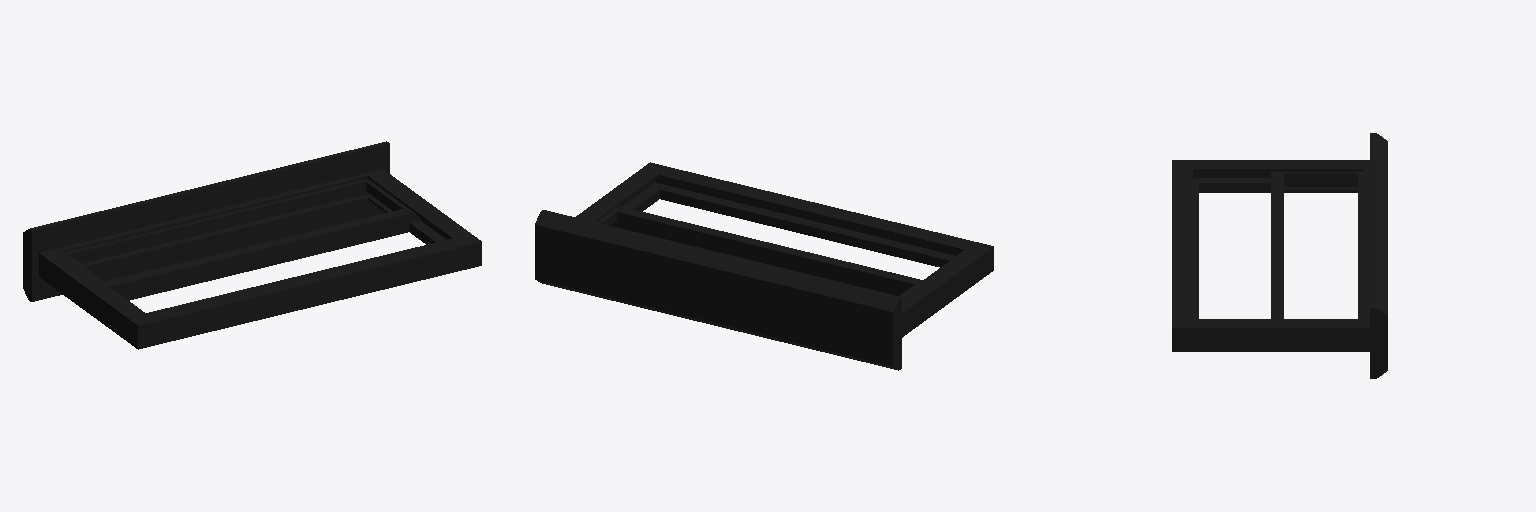
File: MeshWindowHung_48X24_0_GeomSubset_0.obj
3 renders of one model, left to right at view 1: azimuth 30°, elevation 25°; view 2: azimuth 150°, elevation 25°; view 3: azimuth 270°, elevation 25°, orthographic.
Parts seen in each view (by area): view 1: MeshWindowHung_48X24_0_GeomSubset_0; view 2: MeshWindowHung_48X24_0_GeomSubset_0; view 3: MeshWindowHung_48X24_0_GeomSubset_0.
Part boxes in pixels (x1,y1,x2,y2): MeshWindowHung_48X24_0_GeomSubset_0: (23,141,481,349); MeshWindowHung_48X24_0_GeomSubset_0: (535,162,993,370); MeshWindowHung_48X24_0_GeomSubset_0: (1172,133,1387,378).
Size of the model in its own units: 1.27 by 0.2416 by 0.6646.